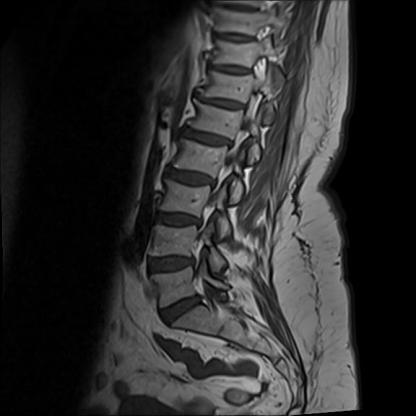Disc Bulgerotation: (156, 291, 210, 324)
Disc Relaxationrotation: (141, 248, 199, 278), (163, 164, 221, 190), (152, 209, 201, 233)
